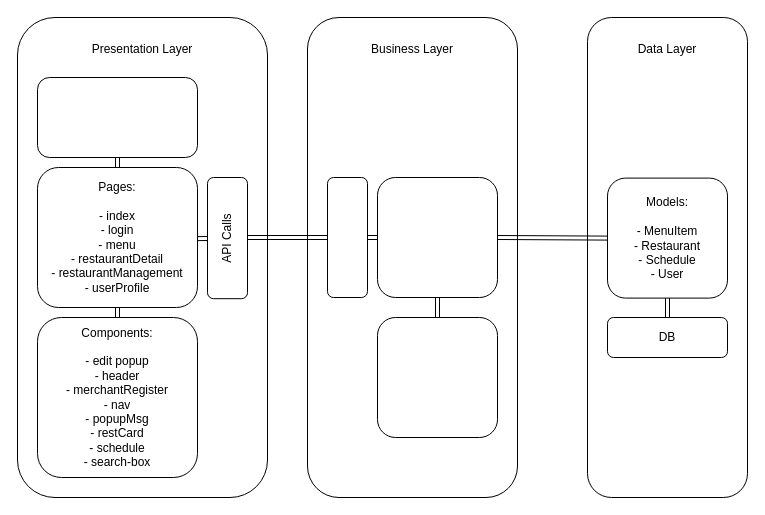
Image size: 765x515. Some labels were removed from this diagram. The centre of each missing label's shape, as x and y in pixels:
App: (347,237)
Logic: - aggregate - format utilities: (117,117)
Logic: - scheduleLogic - timeLogic - menuLogic - restaurantLogic - userLogic: (437,377)
Routes : - scheduleRouter - menuRouter - restaurantRouter - userRouter: (437,237)
